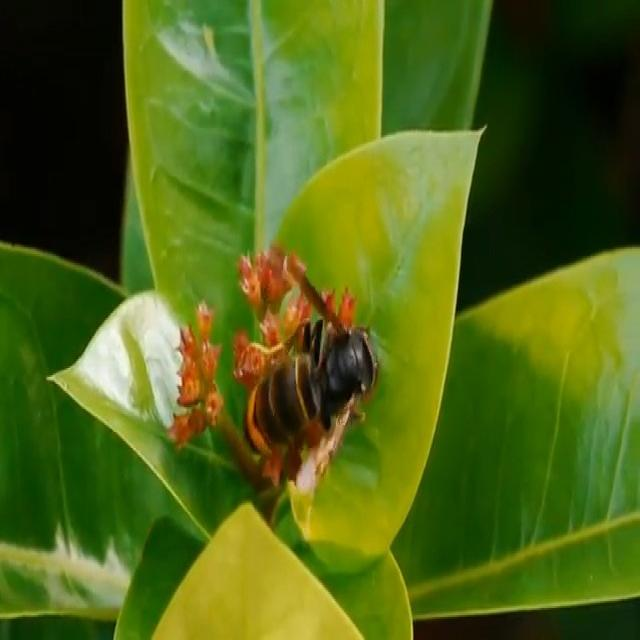Hornets: (236, 243, 384, 522)
